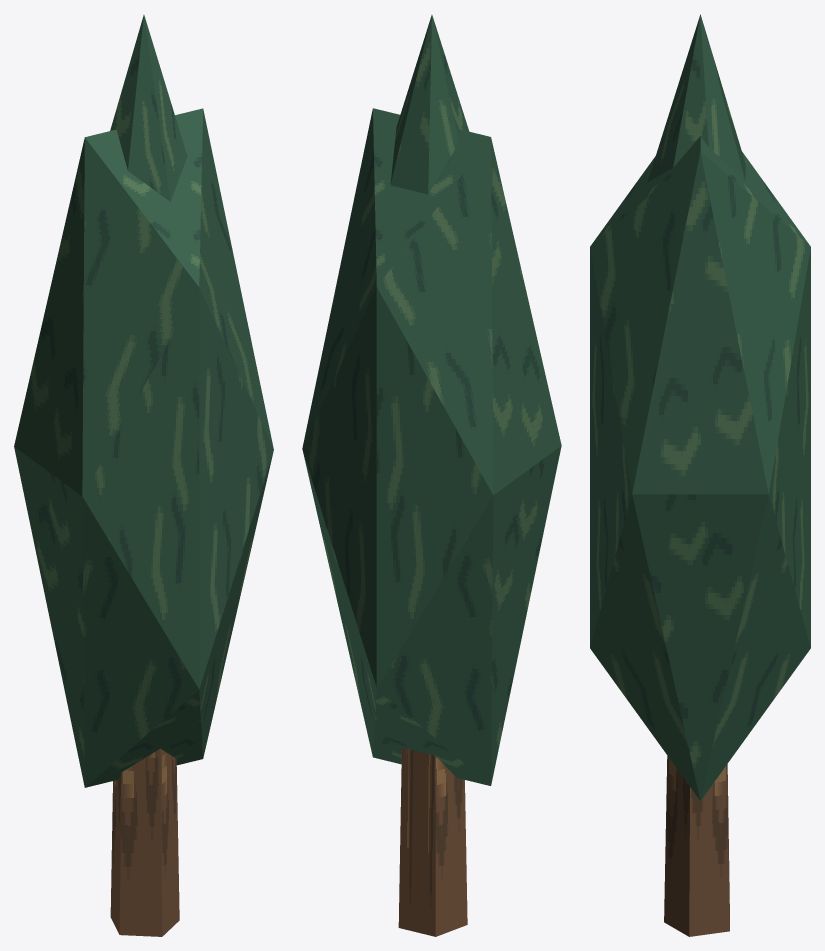
Rendered from arvore-cipreste-v02.gltf.
The picture shows the model from 3 angles, left to right: view 1: azimuth 30°, elevation 25°; view 2: azimuth 150°, elevation 25°; view 3: azimuth 270°, elevation 25°; orthographic projection.
Visible parts, largest first — view 1: tronco-galhos-copa; view 2: tronco-galhos-copa; view 3: tronco-galhos-copa.
Part boxes in pixels (x1=…): tronco-galhos-copa: x1=14, y1=15, x2=273, y2=936; tronco-galhos-copa: x1=302, y1=15, x2=561, y2=936; tronco-galhos-copa: x1=590, y1=14, x2=810, y2=936.
Bounding box in the file's own units: 0.9697 × 4.4 × 0.9697.
1 material, 1 textured.
